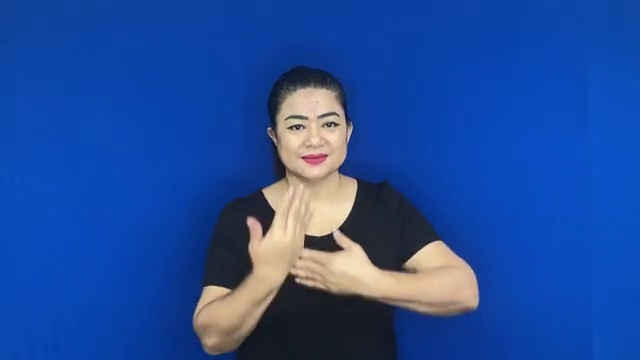bread: (241, 180, 381, 306)
